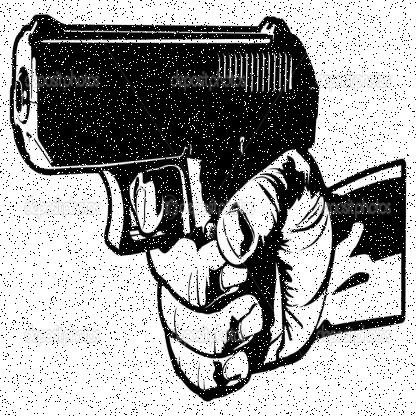pistol: (11, 10, 319, 374)
